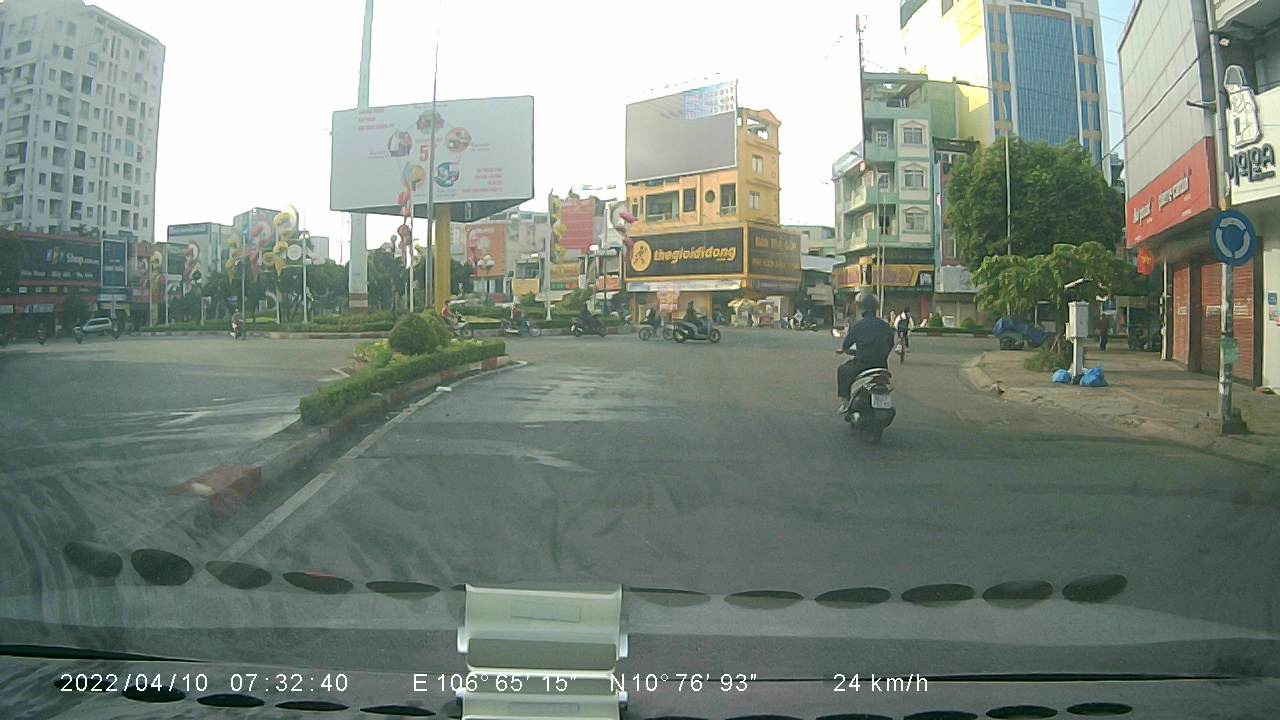Bien khac: (1208, 208, 1257, 266)
